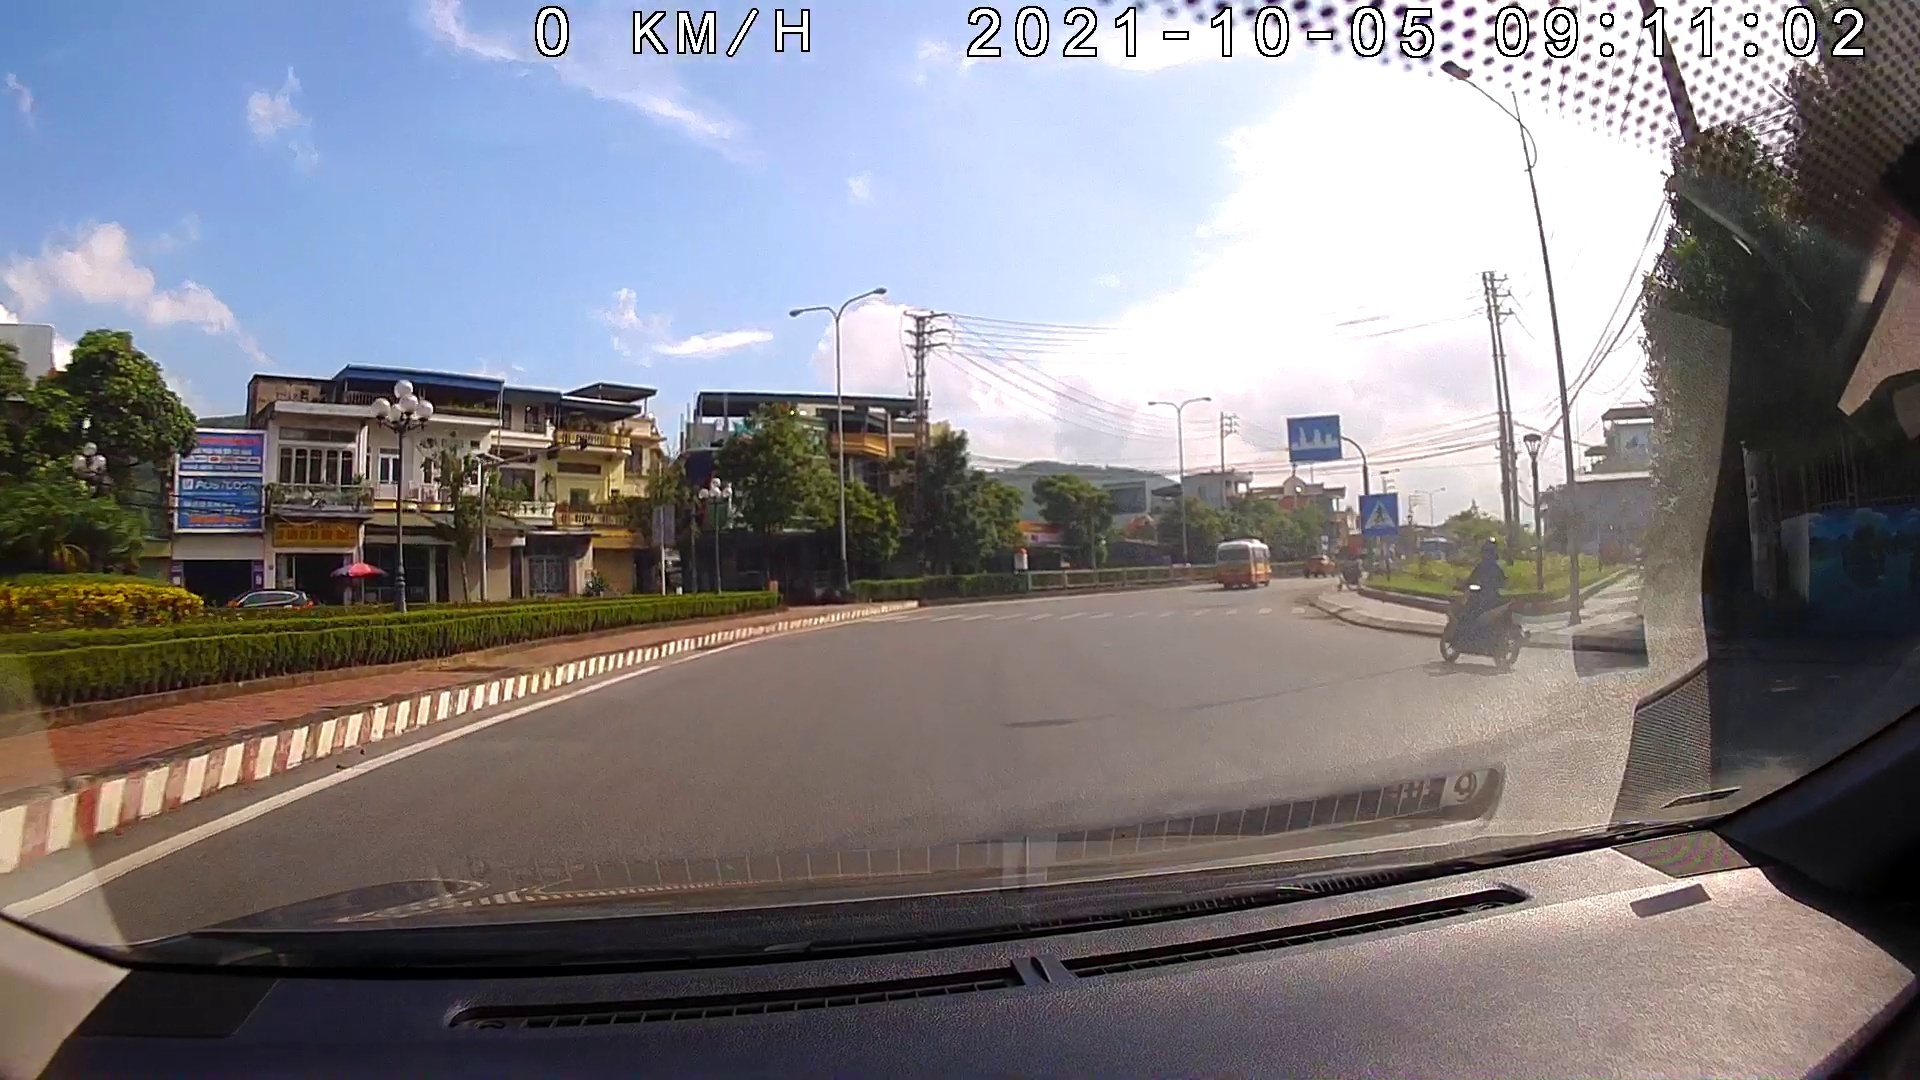Bien khac: (1288, 413, 1342, 463)
Nguoi di bo: (1357, 491, 1402, 535)
